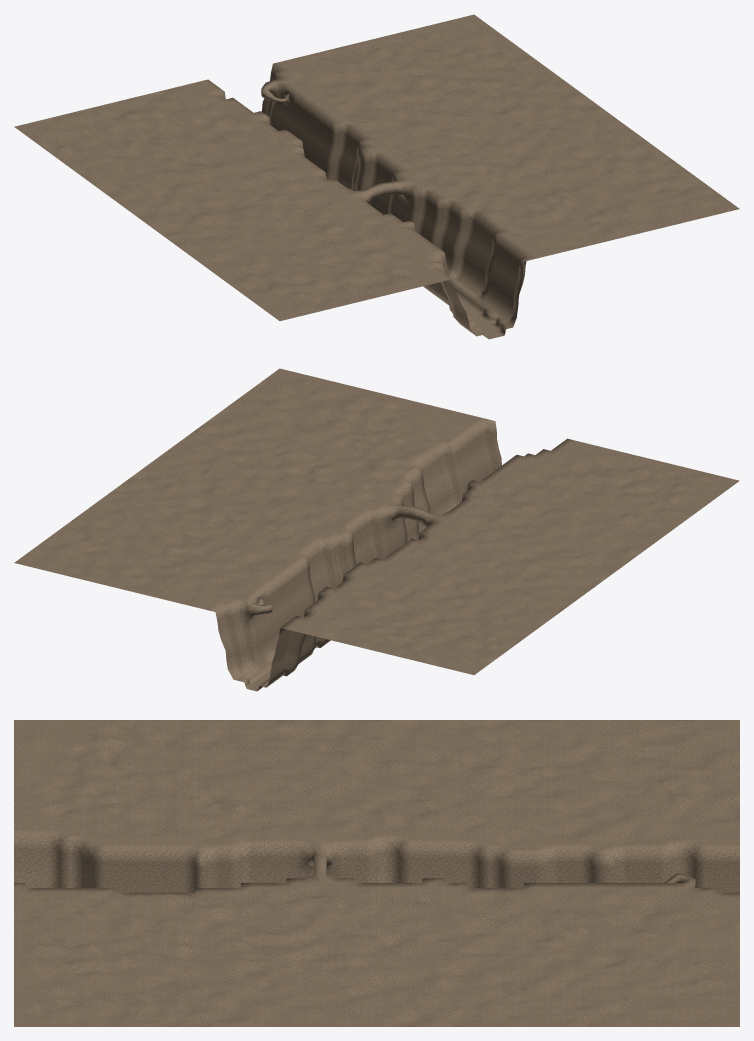
The model's file is clif.dae.
3 views of the same model, one above another, from view 1: azimuth 30°, elevation 25°; view 2: azimuth 150°, elevation 25°; view 3: azimuth 270°, elevation 25° (orthographic). The views are drawn at different scales.
Visible parts, largest first — view 1: Terrain; view 2: Terrain; view 3: Terrain.
Part boxes in pixels (bbox=[...]): Terrain: bbox=[14, 14, 739, 339]; Terrain: bbox=[14, 368, 739, 691]; Terrain: bbox=[14, 720, 739, 1026].
Bounding box in the file's own units: 16 × 16 × 2.38.
1 material, 1 textured.
